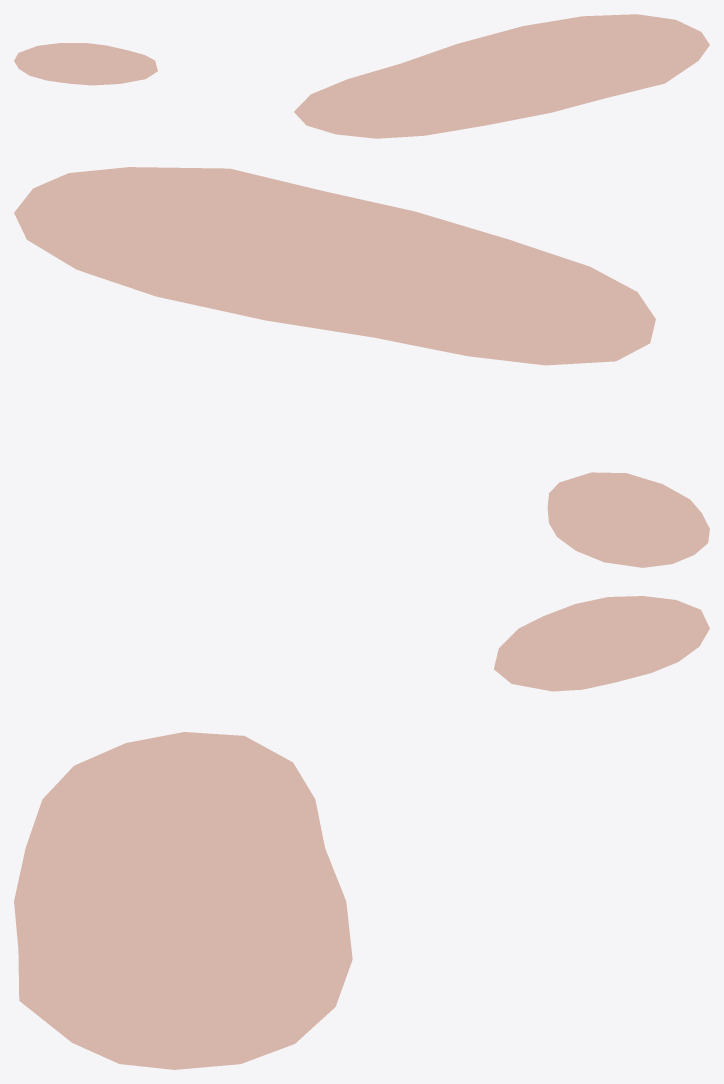
File: Mesh_Adventure_Sand_Variant_Ground_05.fbx
3 views of the same model, one above another, from view 1: azimuth 30°, elevation 25°; view 2: azimuth 150°, elevation 25°; view 3: azimuth 270°, elevation 25° (orthographic). The views are drawn at different scales.
Visible parts, largest first — view 1: Mesh_Adventure_Sand_Variant_Ground_05; view 2: Mesh_Adventure_Sand_Variant_Ground_05; view 3: Mesh_Adventure_Sand_Variant_Ground_05.
Boxes of the visible parts, bbox=[...] form: Mesh_Adventure_Sand_Variant_Ground_05: bbox=[14, 14, 709, 138]; Mesh_Adventure_Sand_Variant_Ground_05: bbox=[14, 167, 709, 567]; Mesh_Adventure_Sand_Variant_Ground_05: bbox=[14, 596, 709, 1069].
Size of the model in its own units: 75.48 by 0 by 46.84.
1 material, 1 textured.
